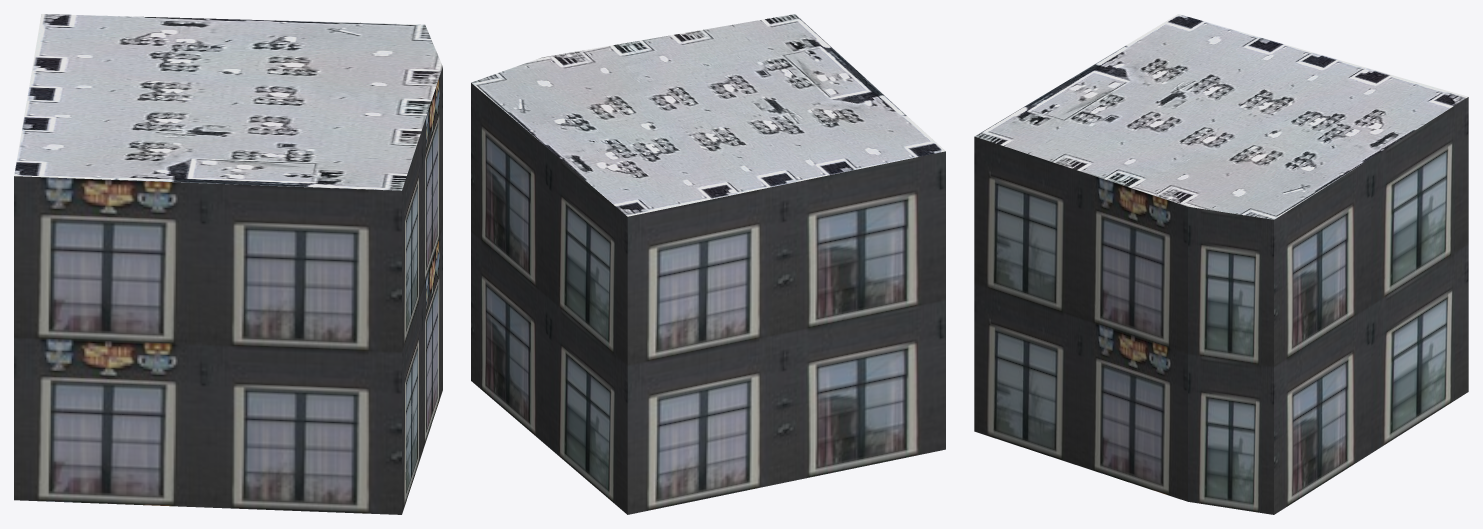
File: ResTex__5077.fbx
The picture shows the model from 3 angles, left to right: view 1: azimuth 30°, elevation 25°; view 2: azimuth 150°, elevation 25°; view 3: azimuth 270°, elevation 25°; orthographic projection. The views are drawn at different scales.
Visible parts, largest first — view 1: CityEngineMaterial_22_m, CityEngineMaterial_4_m; view 2: CityEngineMaterial_22_m, CityEngineMaterial_4_m; view 3: CityEngineMaterial_22_m, CityEngineMaterial_4_m.
Boxes of the visible parts, <box> form: CityEngineMaterial_22_m: <box>14,67,442,514</box>; CityEngineMaterial_4_m: <box>14,14,442,190</box>; CityEngineMaterial_22_m: <box>471,83,945,514</box>; CityEngineMaterial_4_m: <box>471,14,945,216</box>; CityEngineMaterial_22_m: <box>974,97,1468,514</box>; CityEngineMaterial_4_m: <box>974,14,1467,219</box>.
Bounding box in the file's own units: 8.98 × 6 × 9.11.
2 materials, 2 textured.
